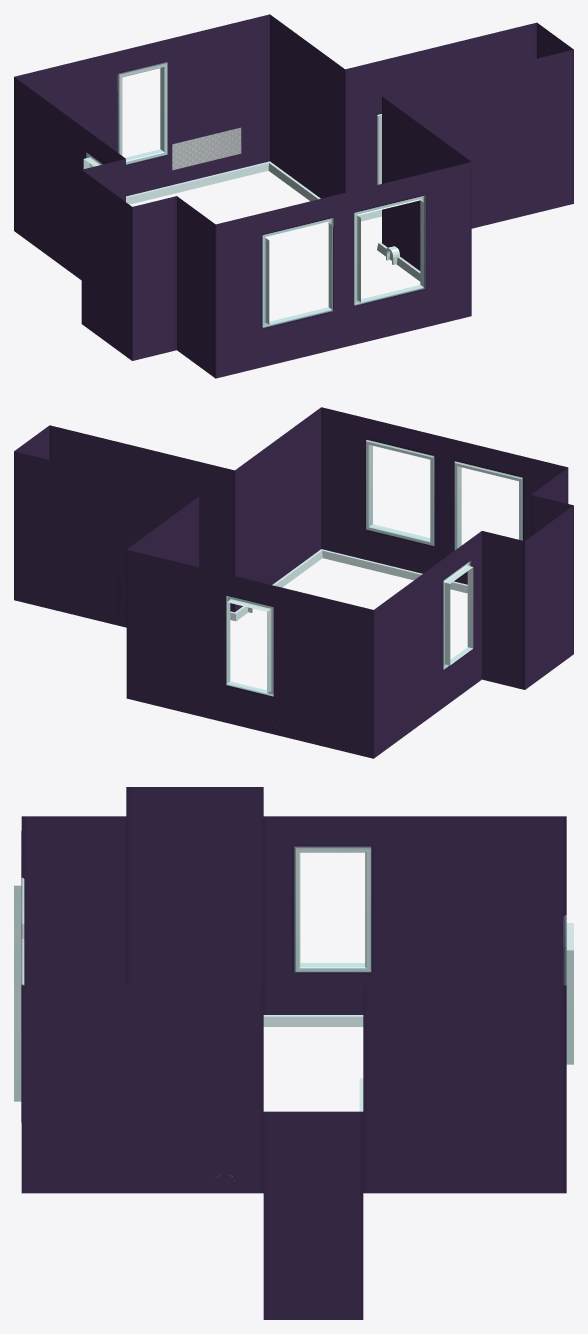
Rendered from Wallsa.fbx.
The picture shows the model from 3 angles, top to bottom: view 1: azimuth 30°, elevation 25°; view 2: azimuth 150°, elevation 25°; view 3: azimuth 270°, elevation 25°; orthographic projection. The views are drawn at different scales.
Parts seen in each view (by area): view 1: Wallsa; view 2: Wallsa; view 3: Wallsa.
Part boxes in pixels (x1,y1,x2,y2): Wallsa: (14, 14, 573, 378); Wallsa: (14, 407, 573, 758); Wallsa: (14, 787, 573, 1319).
Size of the model in its own units: 1662 by 497 by 1212.
